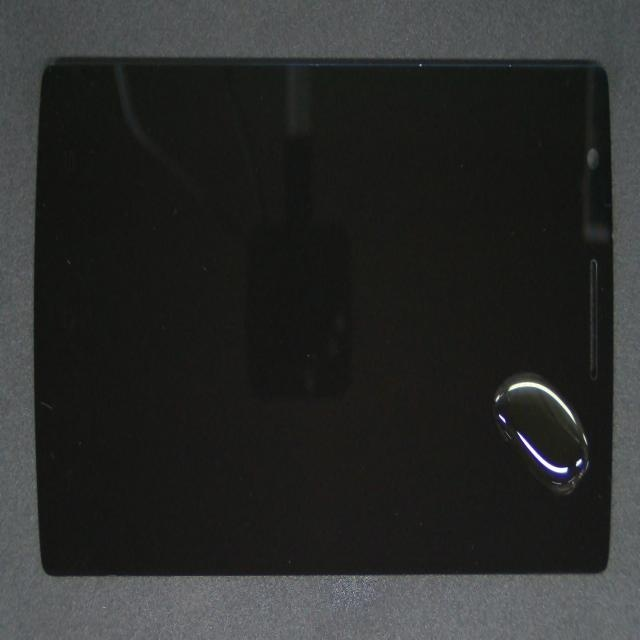oil: (199, 139, 640, 640)
